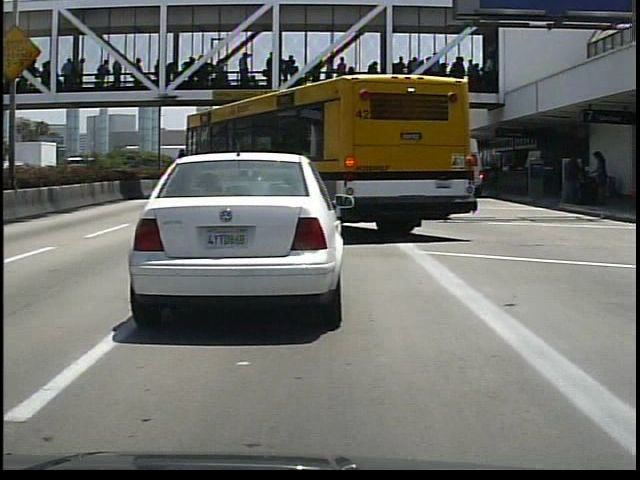person: (589, 148, 617, 211), (563, 148, 590, 209)
